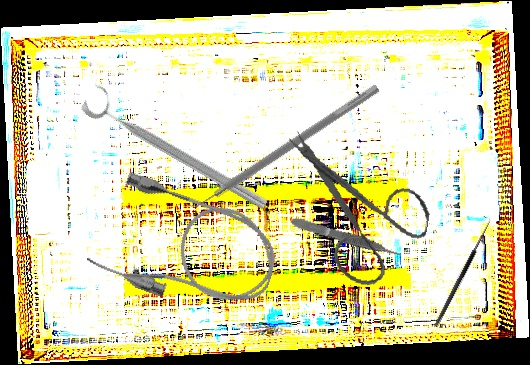Cannula: (83, 167, 289, 329)
Fixation Ring: (79, 81, 277, 215)
Hook Surgical: (428, 215, 494, 328)
Iris Scissors: (265, 127, 441, 296)
Spatula Surgical: (180, 75, 381, 219)
Tissue Forceps: (289, 214, 403, 262)
